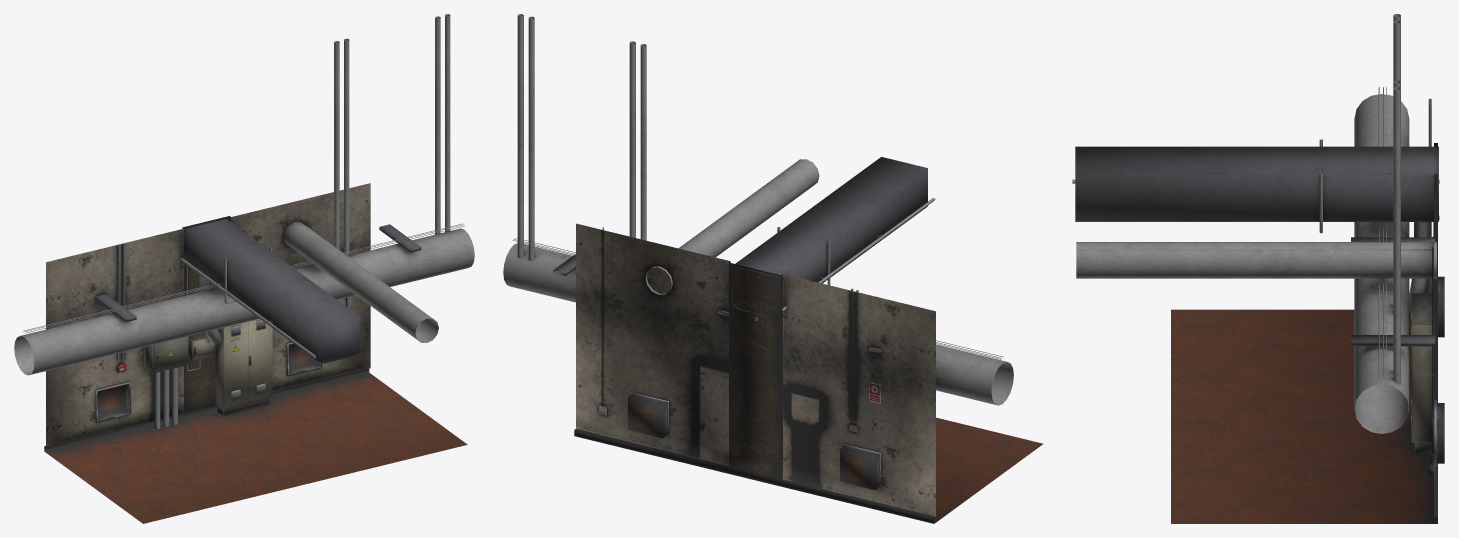
The picture shows the model from 3 angles, left to right: view 1: azimuth 30°, elevation 25°; view 2: azimuth 150°, elevation 25°; view 3: azimuth 270°, elevation 25°; orthographic projection. The views are drawn at different scales.
Visible parts, largest first — view 1: Object_3, Object_2; view 2: Object_3, Object_2; view 3: Object_2, Object_3.
Part boxes in pixels (x1=…): Object_3: x1=44, y1=183, x2=467, y2=523; Object_2: x1=14, y1=14, x2=474, y2=429; Object_3: x1=574, y1=223, x2=1043, y2=523; Object_2: x1=503, y1=14, x2=1013, y2=489; Object_2: x1=1072, y1=14, x2=1444, y2=477; Object_3: x1=1171, y1=143, x2=1437, y2=523.
Size of the model in its own units: 1769 by 1355 by 959.
Materials: 2 (2 with a texture image).
